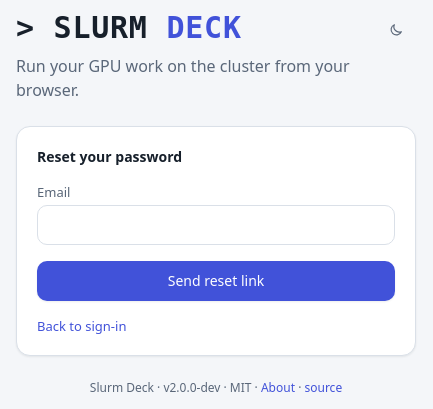
Test: public pages › forgot-password shows the inline success message
Type "a@x.org" into the field labelled "Email".
click(216, 225); type("a@x.org")  # box [37,205,395,245]
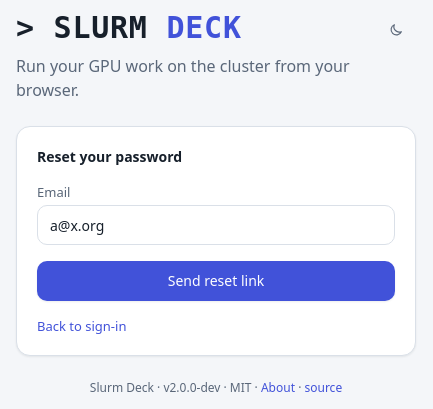
Click the button "Send reset link".
click(216, 281)  # box [37,261,395,301]
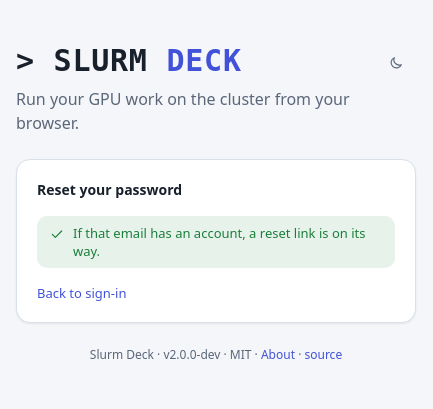
Now the message shows "reset link is on its way", box [73,224,366,260]
